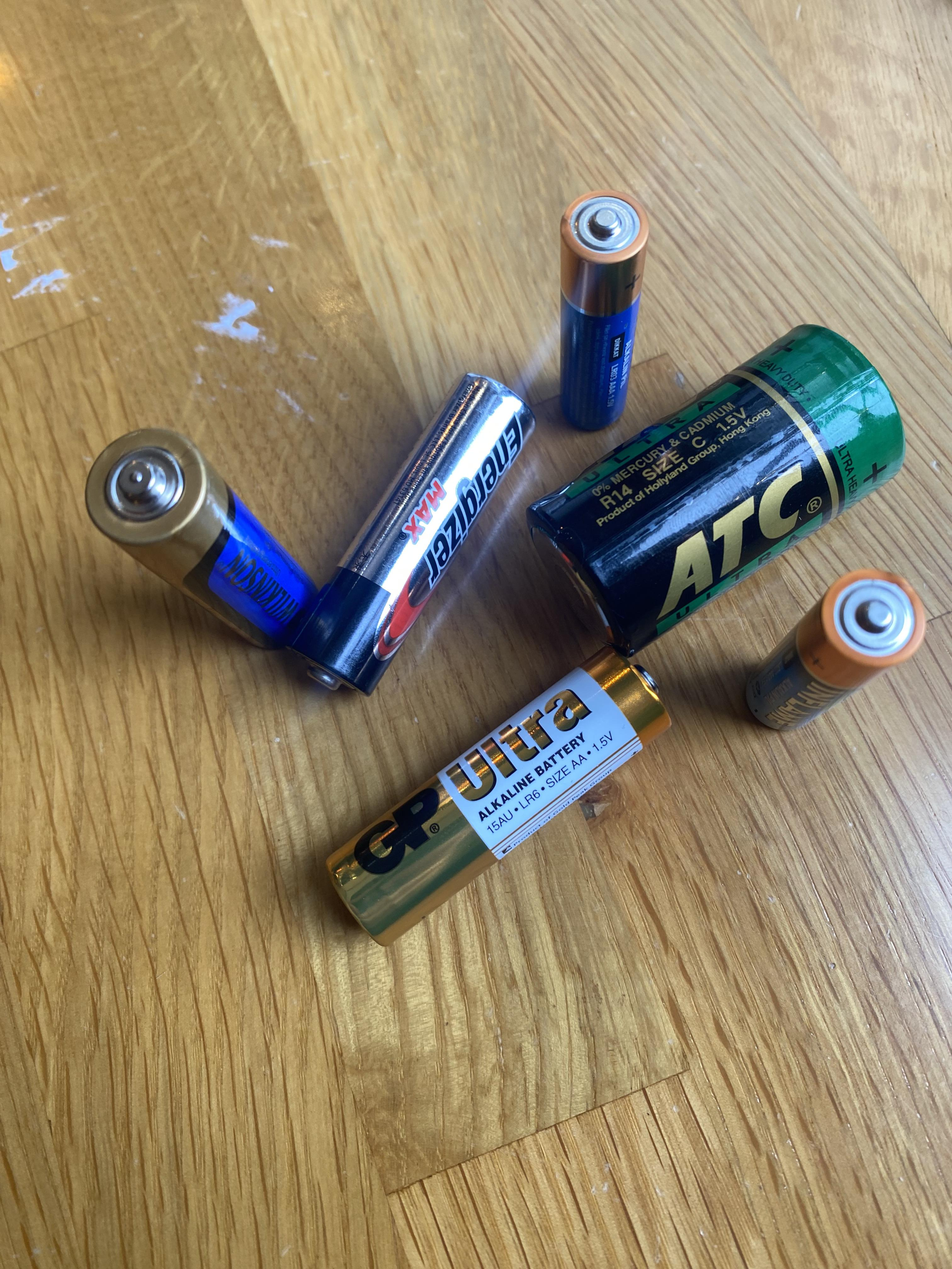AA: (323, 645, 672, 947)
AAA: (551, 176, 652, 447)
